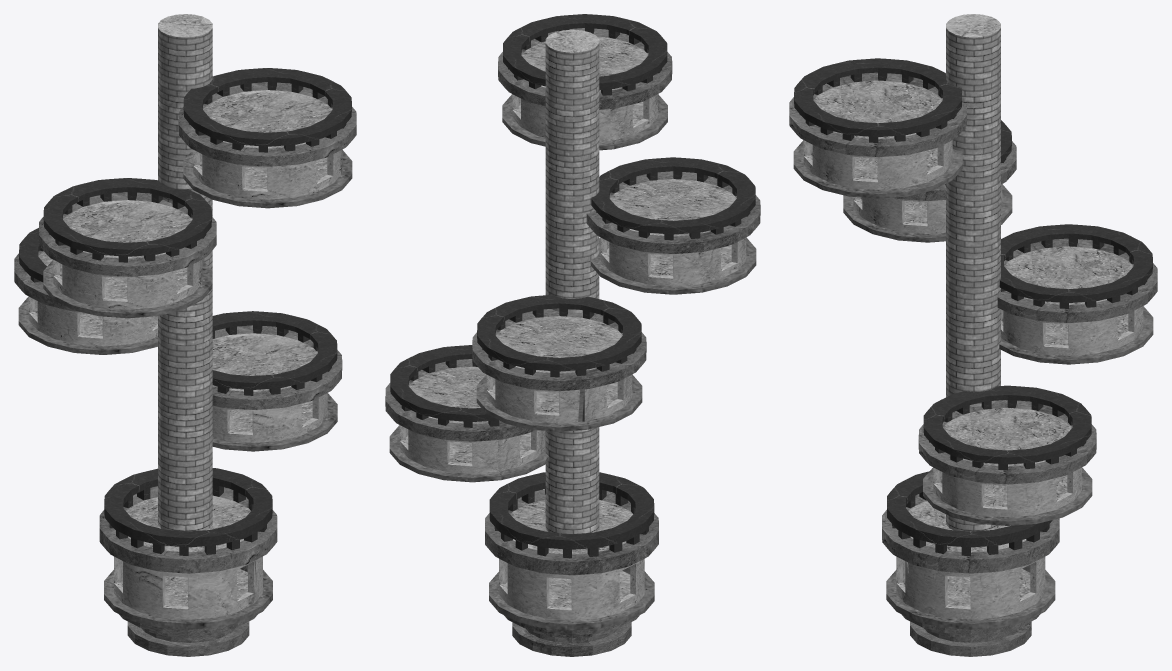
File: tower_center.fbx
3 renders of one model, left to right at view 1: azimuth 30°, elevation 25°; view 2: azimuth 150°, elevation 25°; view 3: azimuth 270°, elevation 25°, orthographic. The views are drawn at different scales.
Visible parts, largest first — view 1: Cylinder018, Cylinder018_cell.037, Cylinder018_cell.022, Cylinder018_cell.054, Cylinder018_cell.070, Cylinder018_cell.010, Cylinder018_cell.046, Cylinder018_cell.039, Cylinder018_cell.058, Cylinder018_cell.027, Cylinder018_cell.003, Cylinder018_cell.032 (+8 smaller); view 2: Cylinder018, Cylinder018_cell.016, Cylinder018_cell.023, Cylinder018_cell.034, Cylinder018_cell.060, Cylinder018_cell.046, Cylinder018_cell.058, Cylinder018_cell.027, Cylinder018_cell.043; view 3: Cylinder018, Cylinder018_cell.003, Cylinder018_cell.043, Cylinder018_cell.027, Cylinder018_cell.037, Cylinder018_cell.058, Cylinder018_cell.010, Cylinder018_cell.009, Cylinder018_cell.060, Cylinder018_cell.023, Cylinder018_cell.054, Cylinder018_cell.066 (+5 smaller).
Boxes of the visible parts, x1,y1,x2,y2 form: Cylinder018: [14, 14, 356, 656]; Cylinder018_cell.037: [231, 344, 340, 451]; Cylinder018_cell.022: [57, 242, 170, 318]; Cylinder018_cell.054: [277, 120, 346, 206]; Cylinder018_cell.070: [160, 28, 212, 118]; Cylinder018_cell.010: [153, 215, 216, 315]; Cylinder018_cell.046: [39, 194, 98, 301]; Cylinder018_cell.039: [193, 163, 292, 208]; Cylinder018_cell.058: [212, 311, 322, 353]; Cylinder018_cell.027: [212, 326, 297, 374]; Cylinder018_cell.003: [255, 77, 356, 193]; Cylinder018_cell.032: [32, 312, 94, 353]; Cylinder018: [385, 14, 760, 655]; Cylinder018_cell.016: [517, 574, 644, 635]; Cylinder018_cell.023: [506, 299, 636, 333]; Cylinder018_cell.034: [515, 622, 631, 656]; Cylinder018_cell.060: [499, 357, 633, 427]; Cylinder018_cell.046: [668, 199, 758, 289]; Cylinder018_cell.058: [385, 363, 469, 477]; Cylinder018_cell.027: [433, 382, 488, 466]; Cylinder018_cell.043: [389, 351, 444, 444]; Cylinder018: [790, 14, 1157, 656]; Cylinder018_cell.003: [798, 113, 953, 198]; Cylinder018_cell.043: [941, 448, 1054, 525]; Cylinder018_cell.027: [984, 397, 1084, 450]; Cylinder018_cell.037: [918, 399, 984, 494]; Cylinder018_cell.058: [995, 427, 1094, 513]; Cylinder018_cell.010: [843, 197, 919, 241]; Cylinder018_cell.009: [1016, 286, 1093, 322]; Cylinder018_cell.060: [1085, 227, 1157, 336]; Cylinder018_cell.023: [1001, 239, 1055, 328]; Cylinder018_cell.054: [789, 84, 811, 173]; Cylinder018_cell.066: [1034, 322, 1076, 364].
Bounding box in the file's own units: 847 × 1523 × 842.
